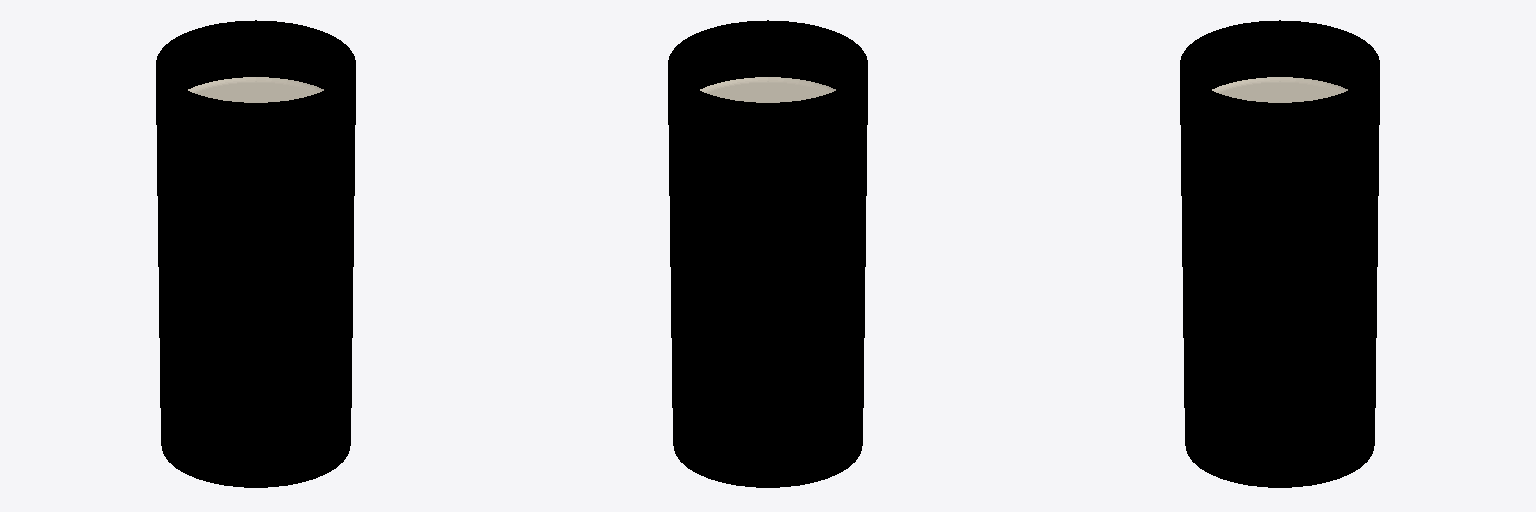
Rendered from milk.obj.
3 renders of one model, left to right at view 1: azimuth 30°, elevation 25°; view 2: azimuth 150°, elevation 25°; view 3: azimuth 270°, elevation 25°, orthographic.
Visible parts, largest first — view 1: 10_Glass_o; view 2: 10_Glass_o; view 3: 10_Glass_o.
Boxes of the visible parts, box(x1,y1,x2,y2) form: 10_Glass_o: box(156, 20, 355, 487); 10_Glass_o: box(668, 20, 867, 487); 10_Glass_o: box(1180, 20, 1379, 487).
Size of the model in its own units: 2.95 by 6.3 by 2.95.